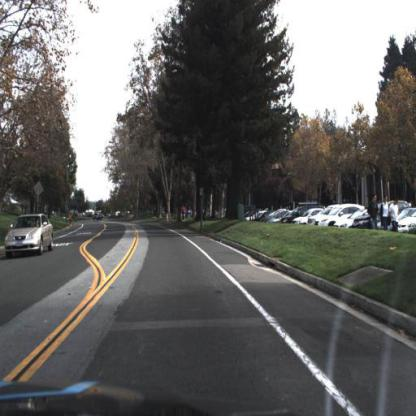car: (5, 215, 55, 257), (314, 202, 365, 231)
pedestrian: (389, 198, 402, 237), (380, 196, 392, 235), (368, 195, 380, 231), (180, 201, 190, 224), (70, 214, 73, 228), (76, 213, 79, 226)
